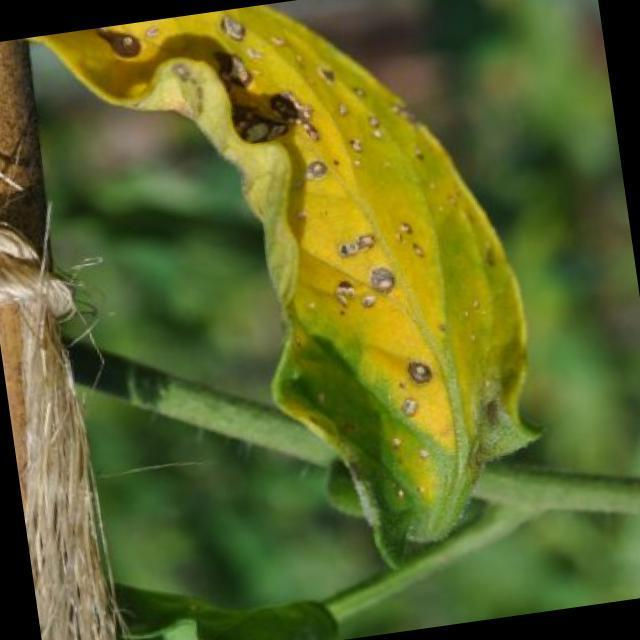Septoria: (140, 0, 526, 501)
